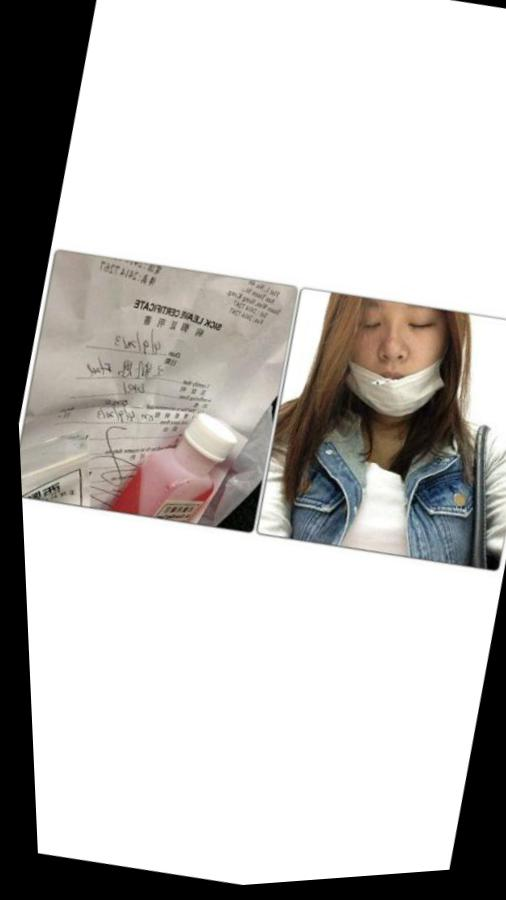WRONG: (321, 293, 464, 439)
